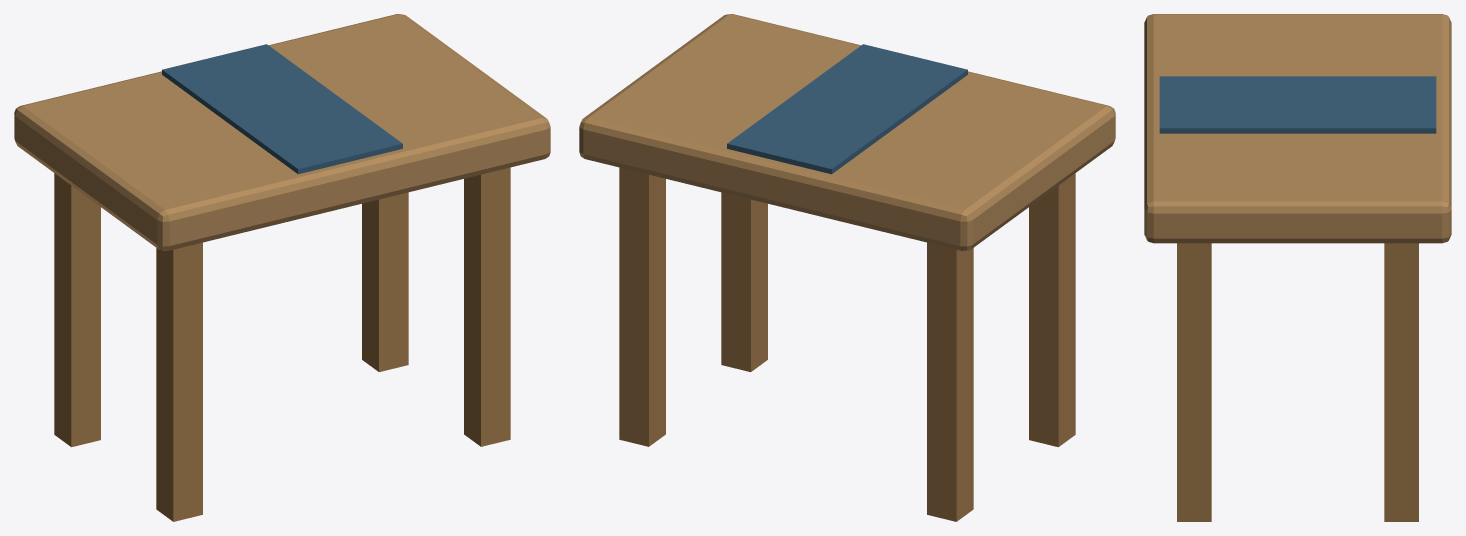
Rendered from table.glb.
3 views of the same model, side by side, from view 1: azimuth 30°, elevation 25°; view 2: azimuth 150°, elevation 25°; view 3: azimuth 270°, elevation 25° (orthographic).
Parts seen in each view (by area): view 1: interior-apt-wood2--1, interior-apt-wood--1, interior-apt-blue--1; view 2: interior-apt-wood2--1, interior-apt-wood--1, interior-apt-blue--1; view 3: interior-apt-wood2--1, interior-apt-wood--1, interior-apt-blue--1.
Part boxes in pixels (left/top/right/bottom): interior-apt-wood2--1: left=14, top=14, right=550, bottom=250; interior-apt-wood--1: left=54, top=167, right=510, bottom=521; interior-apt-blue--1: left=162, top=44, right=402, bottom=174; interior-apt-wood2--1: left=579, top=14, right=1115, bottom=250; interior-apt-wood--1: left=619, top=167, right=1075, bottom=521; interior-apt-blue--1: left=727, top=44, right=967, bottom=174; interior-apt-wood2--1: left=1144, top=14, right=1451, bottom=243; interior-apt-wood--1: left=1177, top=243, right=1418, bottom=521; interior-apt-blue--1: left=1159, top=76, right=1436, bottom=133.
Size of the model in its own units: 1.2 by 0.9655 by 0.8.
